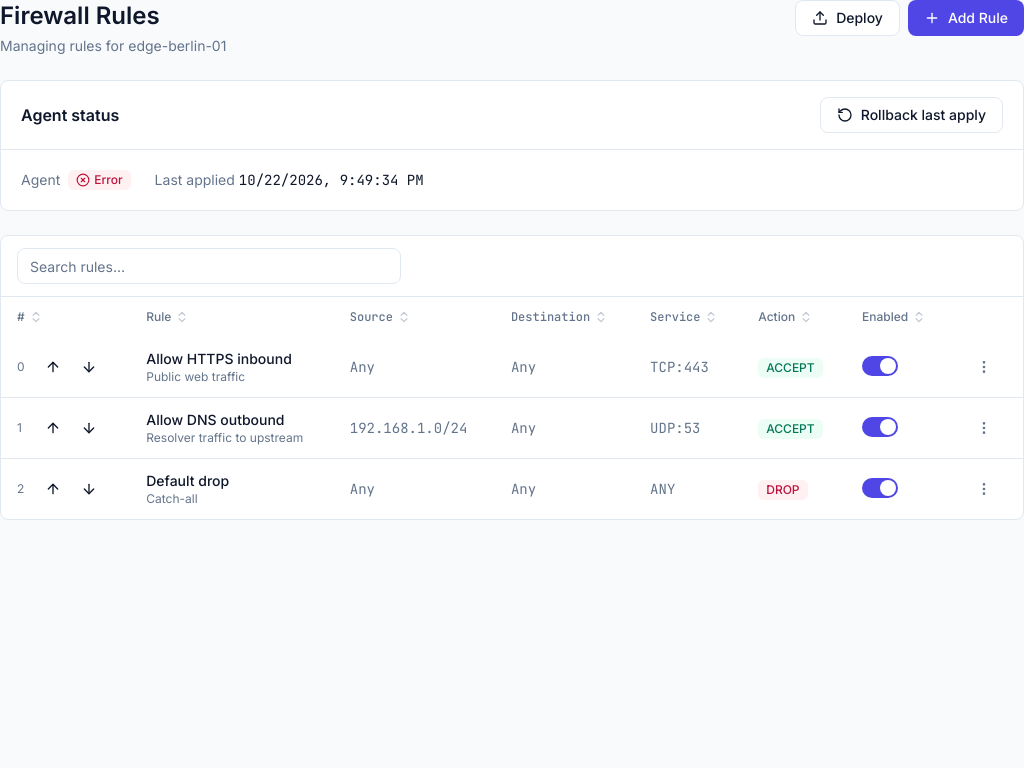
Scenario: FirewallRules › deploy dialog: confirm button disabled until review checkbox checked
The image size is (1024, 768).
Expected: the text "Allow HTTPS inbound" is shown, [146,350,292,367]
Open deploy dialog
Click the button "Deploy": (848, 18) [795,0,900,36]
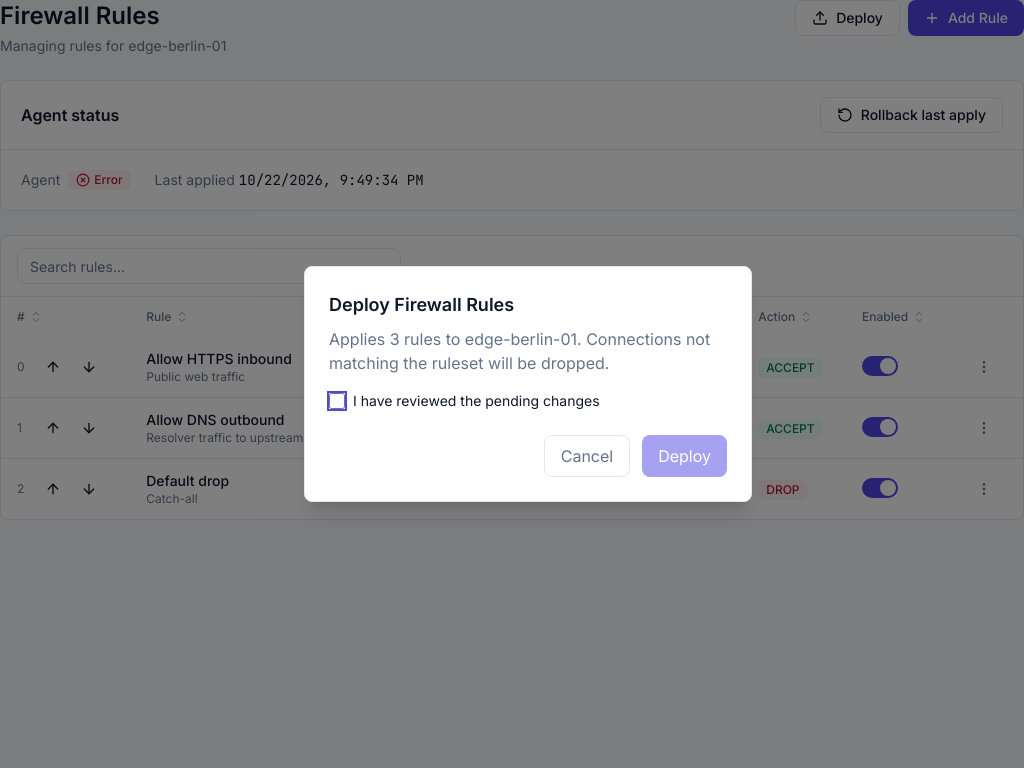
Result: the button "Deploy" is disabled at [642,435,727,477]
Check the review checkbox
Click the checkbox: (337, 401) [329,393,345,409]
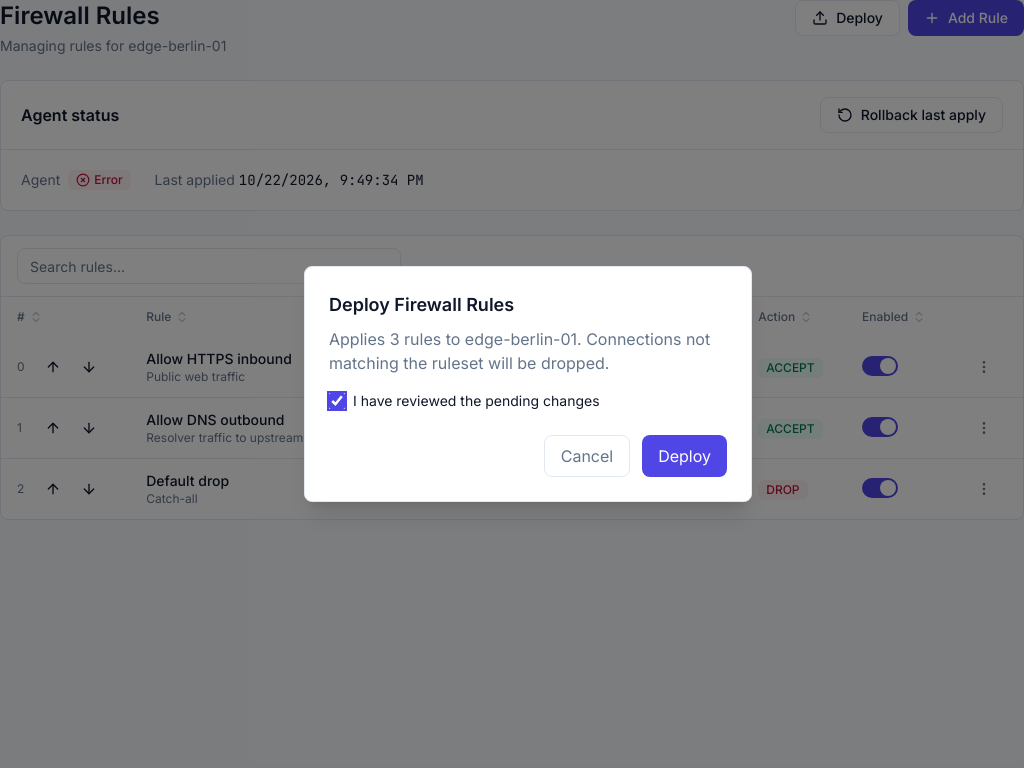
Result: the button "Deploy" is enabled at [642,435,727,477]
